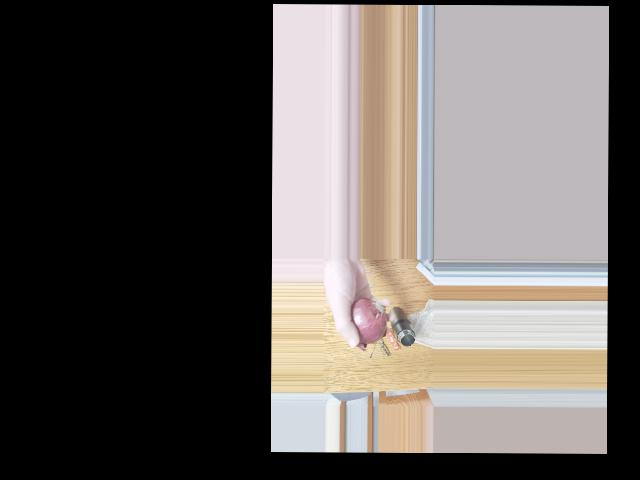onion: (348, 301, 382, 343)
